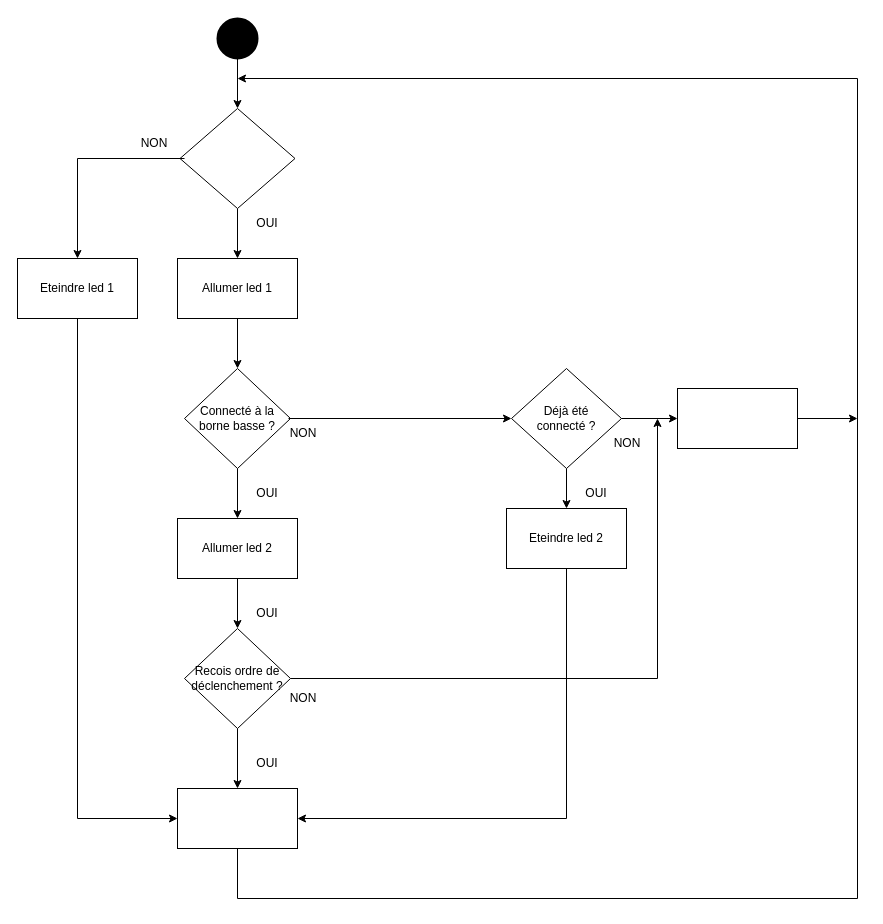
The diagram is 883 pixels wide and 924 high, and some of its shapes have lost their labels. Each missing label, with the box of its shape:
Branchée sur secteur ?: (179, 108, 295, 208)
Declencher alarme: (176, 788, 298, 848)
Eteindre alarme: (676, 388, 798, 448)
